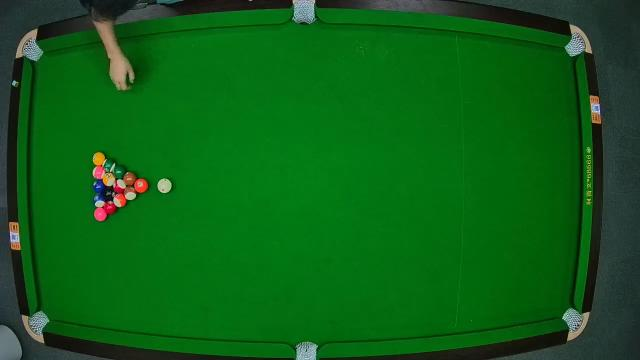bag1: (22, 39, 42, 61)
bag2: (294, 2, 316, 24)
bag3: (566, 36, 588, 54)
bag4: (28, 312, 46, 334)
bag5: (294, 340, 318, 360)
bag6: (562, 309, 582, 331)
ball0: (157, 178, 173, 195)
ball1: (92, 152, 106, 166)
ball10: (92, 192, 106, 208)
ball11: (114, 179, 126, 193)
ball12: (93, 165, 107, 179)
ball13: (113, 192, 127, 208)
ball14: (104, 160, 116, 172)
ball15: (123, 184, 137, 200)
ball2: (92, 180, 104, 193)
ball3: (104, 199, 116, 214)
ball4: (94, 207, 108, 221)
ball5: (134, 177, 148, 193)
ball6: (112, 165, 126, 177)
ball7: (124, 170, 136, 184)
ball8: (102, 185, 115, 200)
ball9: (102, 172, 116, 187)
flag: (92, 146, 155, 226)
